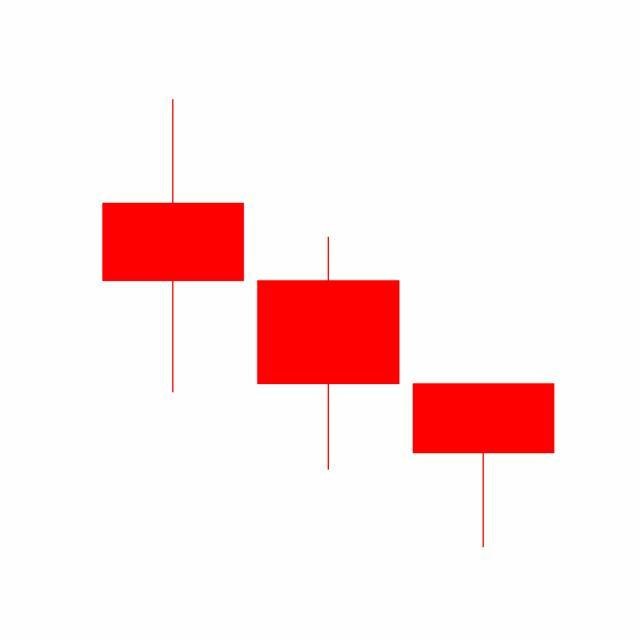Hammer: (406, 382, 562, 550)
